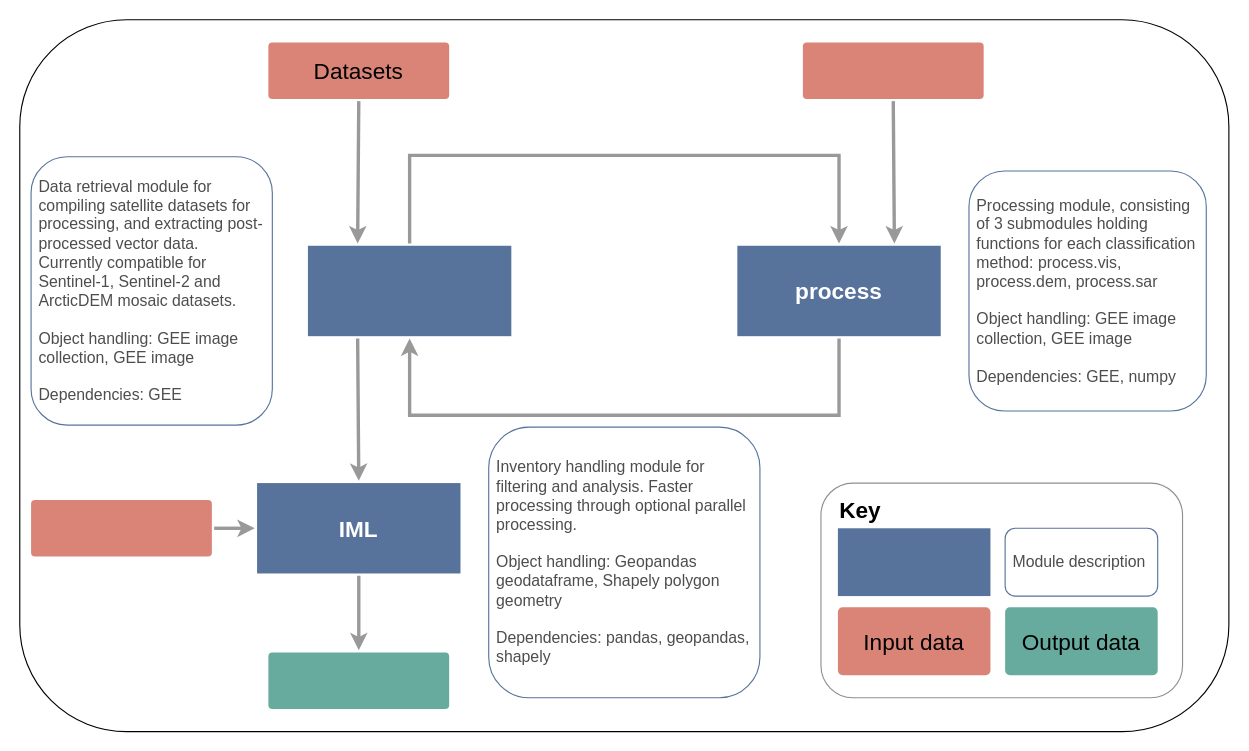
The diagram is 1249 pixels wide and 751 high, and some of its shapes have lost their labels. The shapes that lost their labels are listed below. From the top down, each one's box as (x1, y1, x2, y2) in pixels, then its label:
(802, 42, 983, 98): Input parameters
(307, 245, 511, 336): retrieve
(31, 499, 211, 556): Filtering parameters
(837, 528, 990, 596): Module
(268, 652, 449, 709): Final inventory
